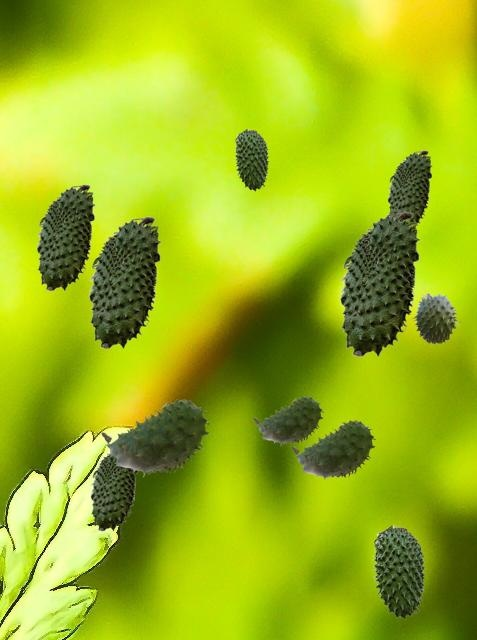guyabano: (339, 211, 419, 356), (88, 216, 160, 348), (101, 399, 208, 476), (36, 184, 94, 290), (372, 524, 425, 618), (291, 420, 374, 480), (90, 450, 137, 530), (253, 396, 322, 445), (387, 150, 431, 226), (411, 292, 461, 343), (234, 128, 268, 190)
